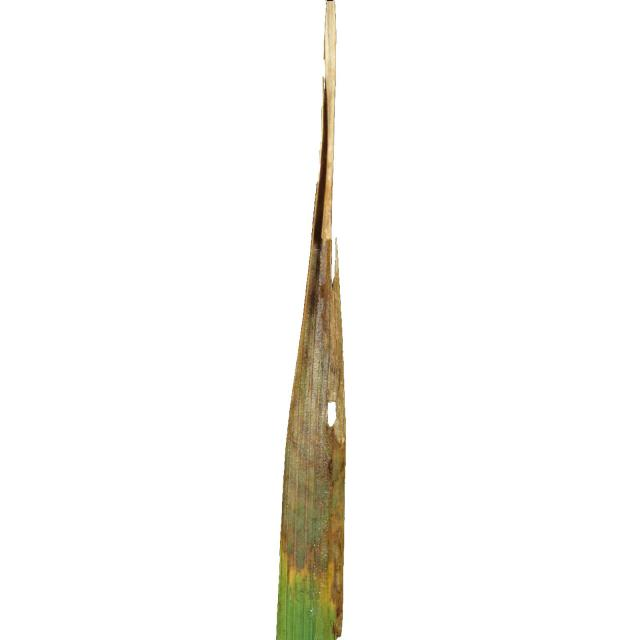Leaf scald: (198, 0, 424, 640)
